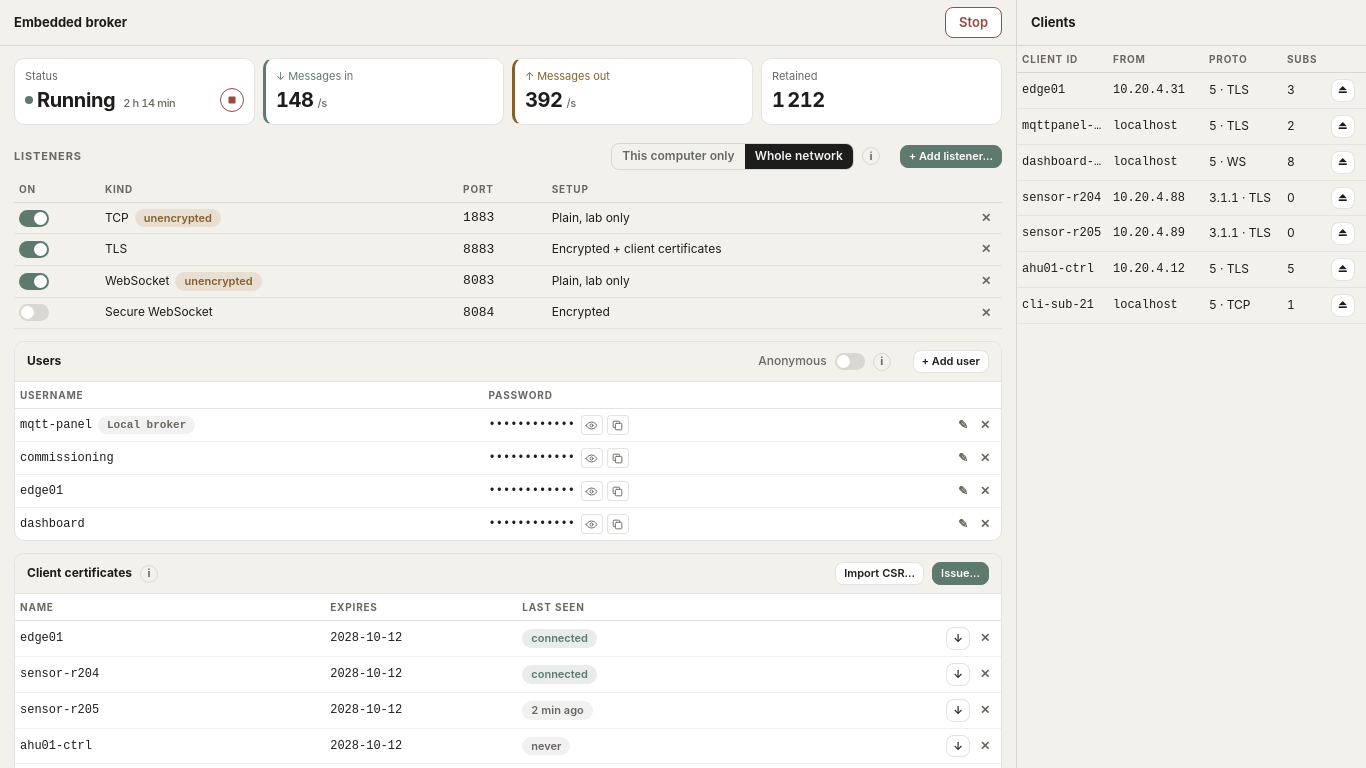
Test: Change set 7: no restart (B-25) › a listener that cannot start shows its error on its row, in brick, without wrapping; the others keep running
Expected: the row with test id "listener-row" that starts with "TCP" is shown, [14, 202, 1002, 234]
What coordinates should you click on to do the following:
click the switch named "Secure WebSocket listener on port 8084"
I would click on:
 (34, 313)
Its box is [19, 304, 49, 322].
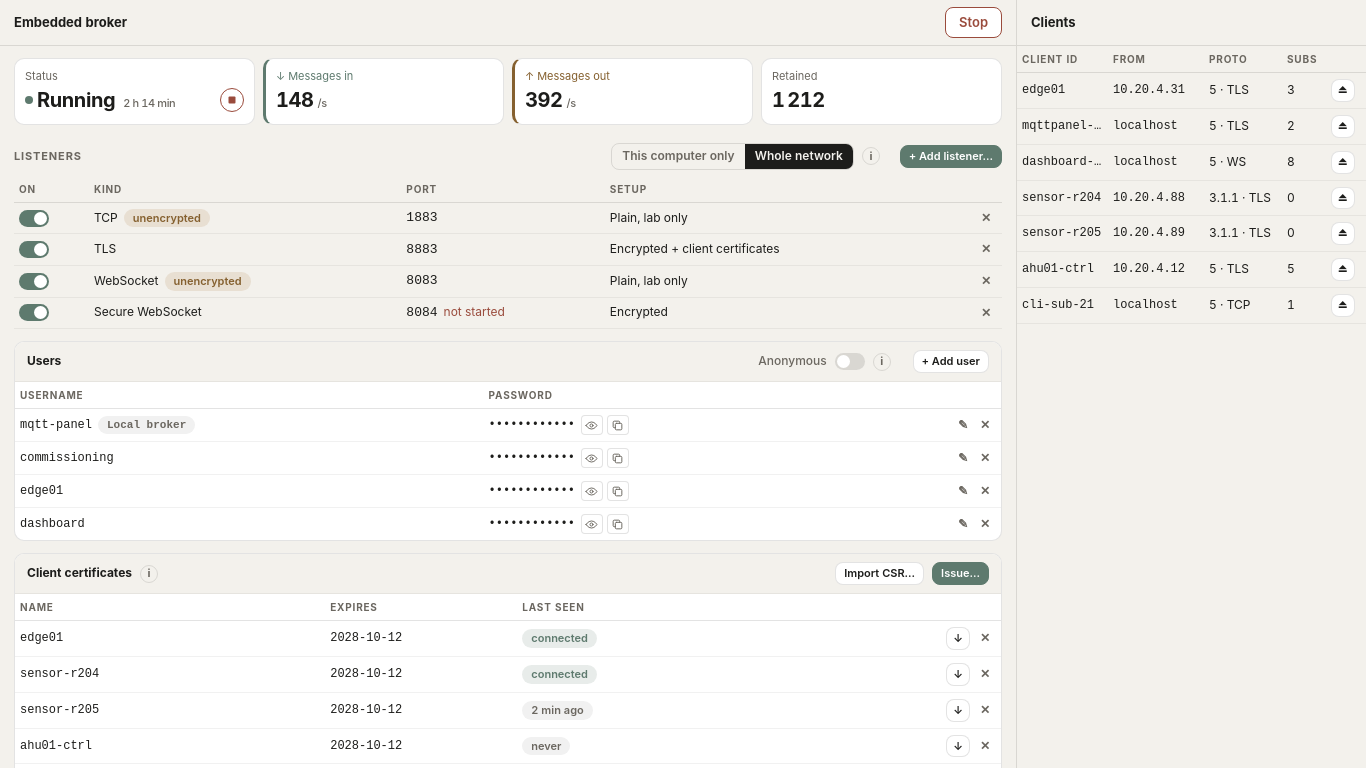
Expected: the text with test id "listener-error-l-wss" reads "not started", [444, 304, 505, 320]
